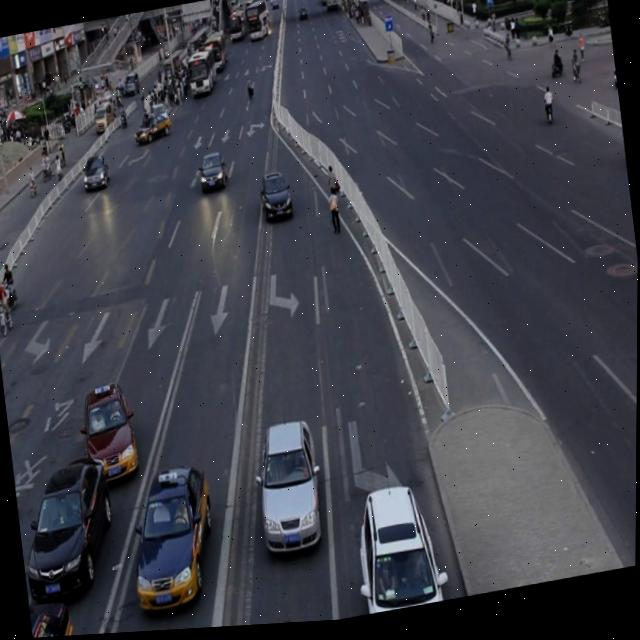car: (121, 458, 224, 618), (15, 451, 122, 604), (351, 481, 447, 620), (248, 414, 328, 562), (78, 377, 142, 488), (257, 169, 294, 229), (29, 595, 78, 638), (196, 151, 231, 200), (80, 152, 112, 195)
